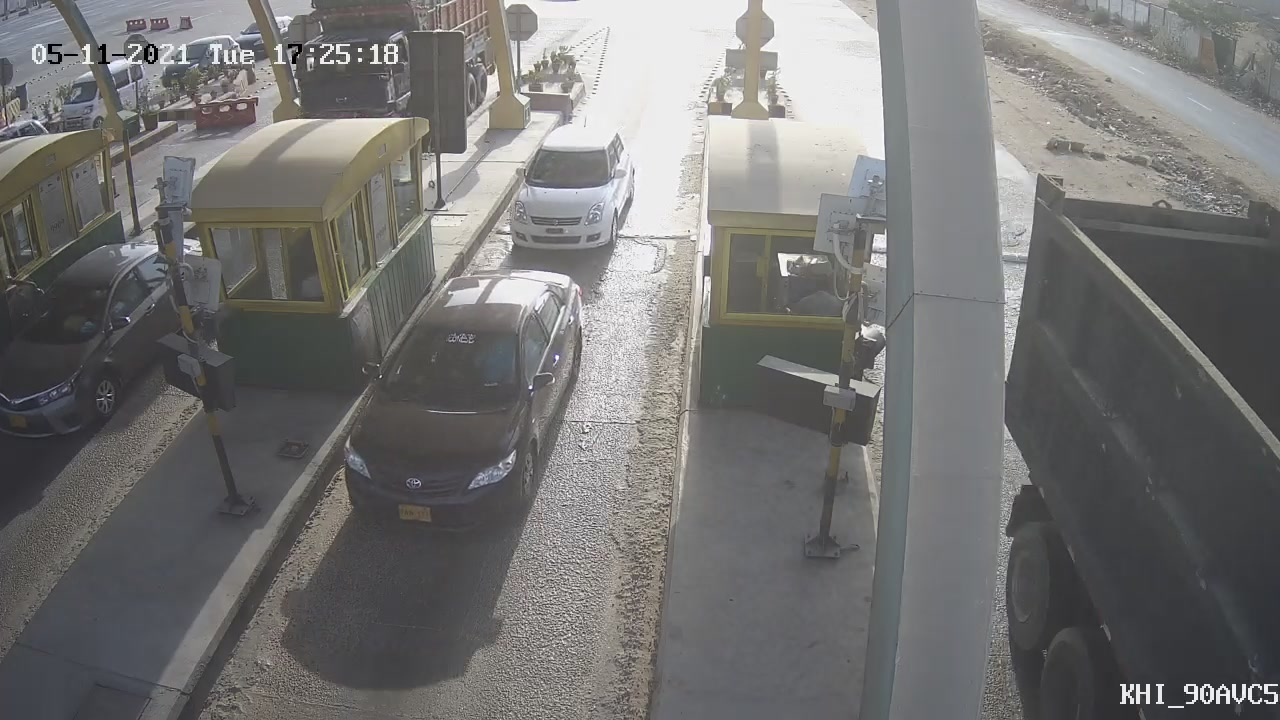F1: (307, 247, 605, 559), (489, 104, 657, 278)
